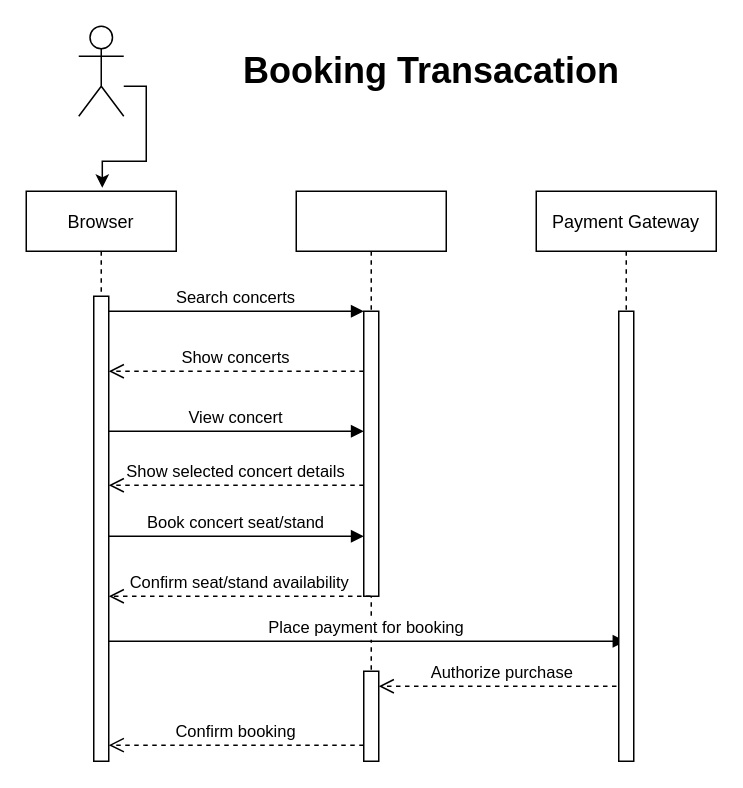
The diagram is 743 pixels wide and 788 high, and some of its shapes have lost their labels. Each missing label, with the box of its shape:
Buyer: (77, 25, 124, 116)
System: (295, 190, 446, 761)
